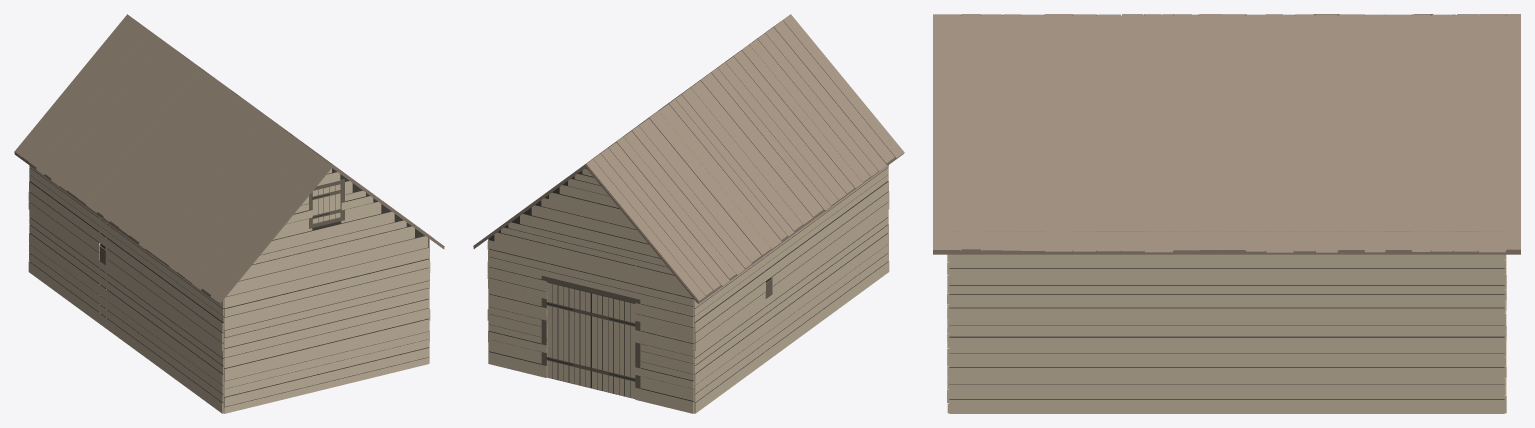
File: recon_1835_west_024__inferred_1835.glb
The picture shows the model from 3 angles, left to right: view 1: azimuth 30°, elevation 25°; view 2: azimuth 150°, elevation 25°; view 3: azimuth 270°, elevation 25°; orthographic projection. The views are drawn at different scales.
Visible parts, largest first — view 1: recon_1835_west_024__inferred_1835; view 2: recon_1835_west_024__inferred_1835; view 3: recon_1835_west_024__inferred_1835.
Part boxes in pixels (x1,y1,x2,y2): recon_1835_west_024__inferred_1835: (14,14,444,413); recon_1835_west_024__inferred_1835: (473,14,904,413); recon_1835_west_024__inferred_1835: (933,14,1520,413).
Bounding box in the file's own units: 7.45 × 7.15 × 11.62.
